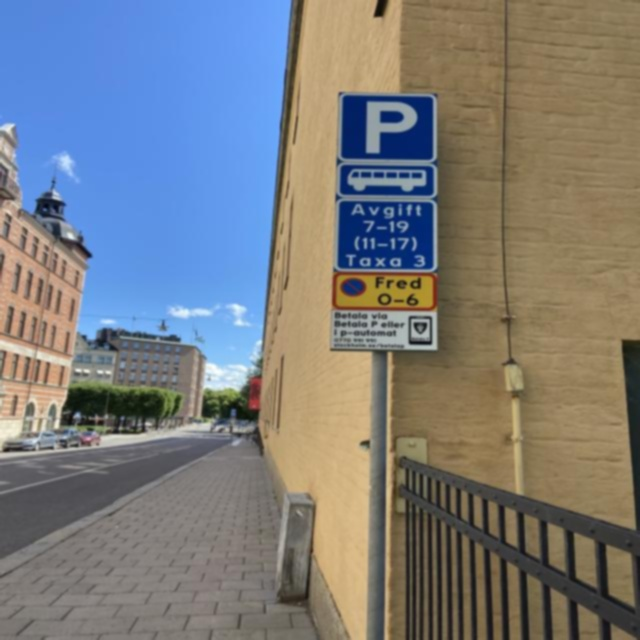P-skylt: (337, 90, 437, 162)
